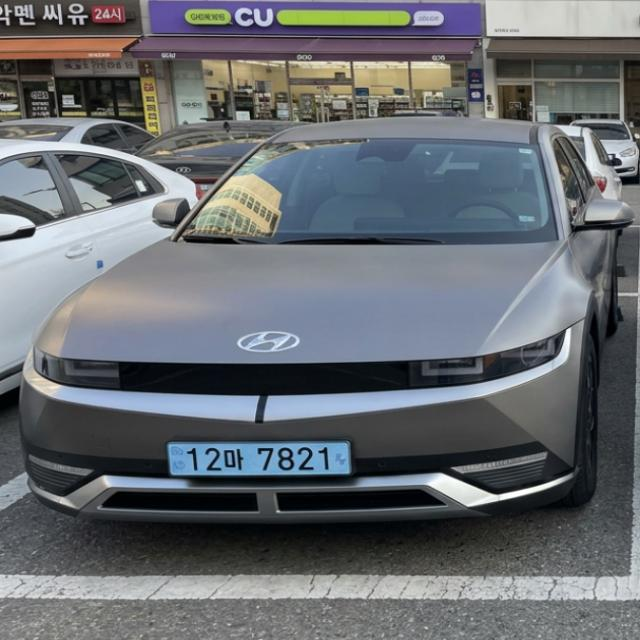car: (150, 437, 394, 490)
carev: (160, 440, 187, 483), (329, 440, 356, 483)
